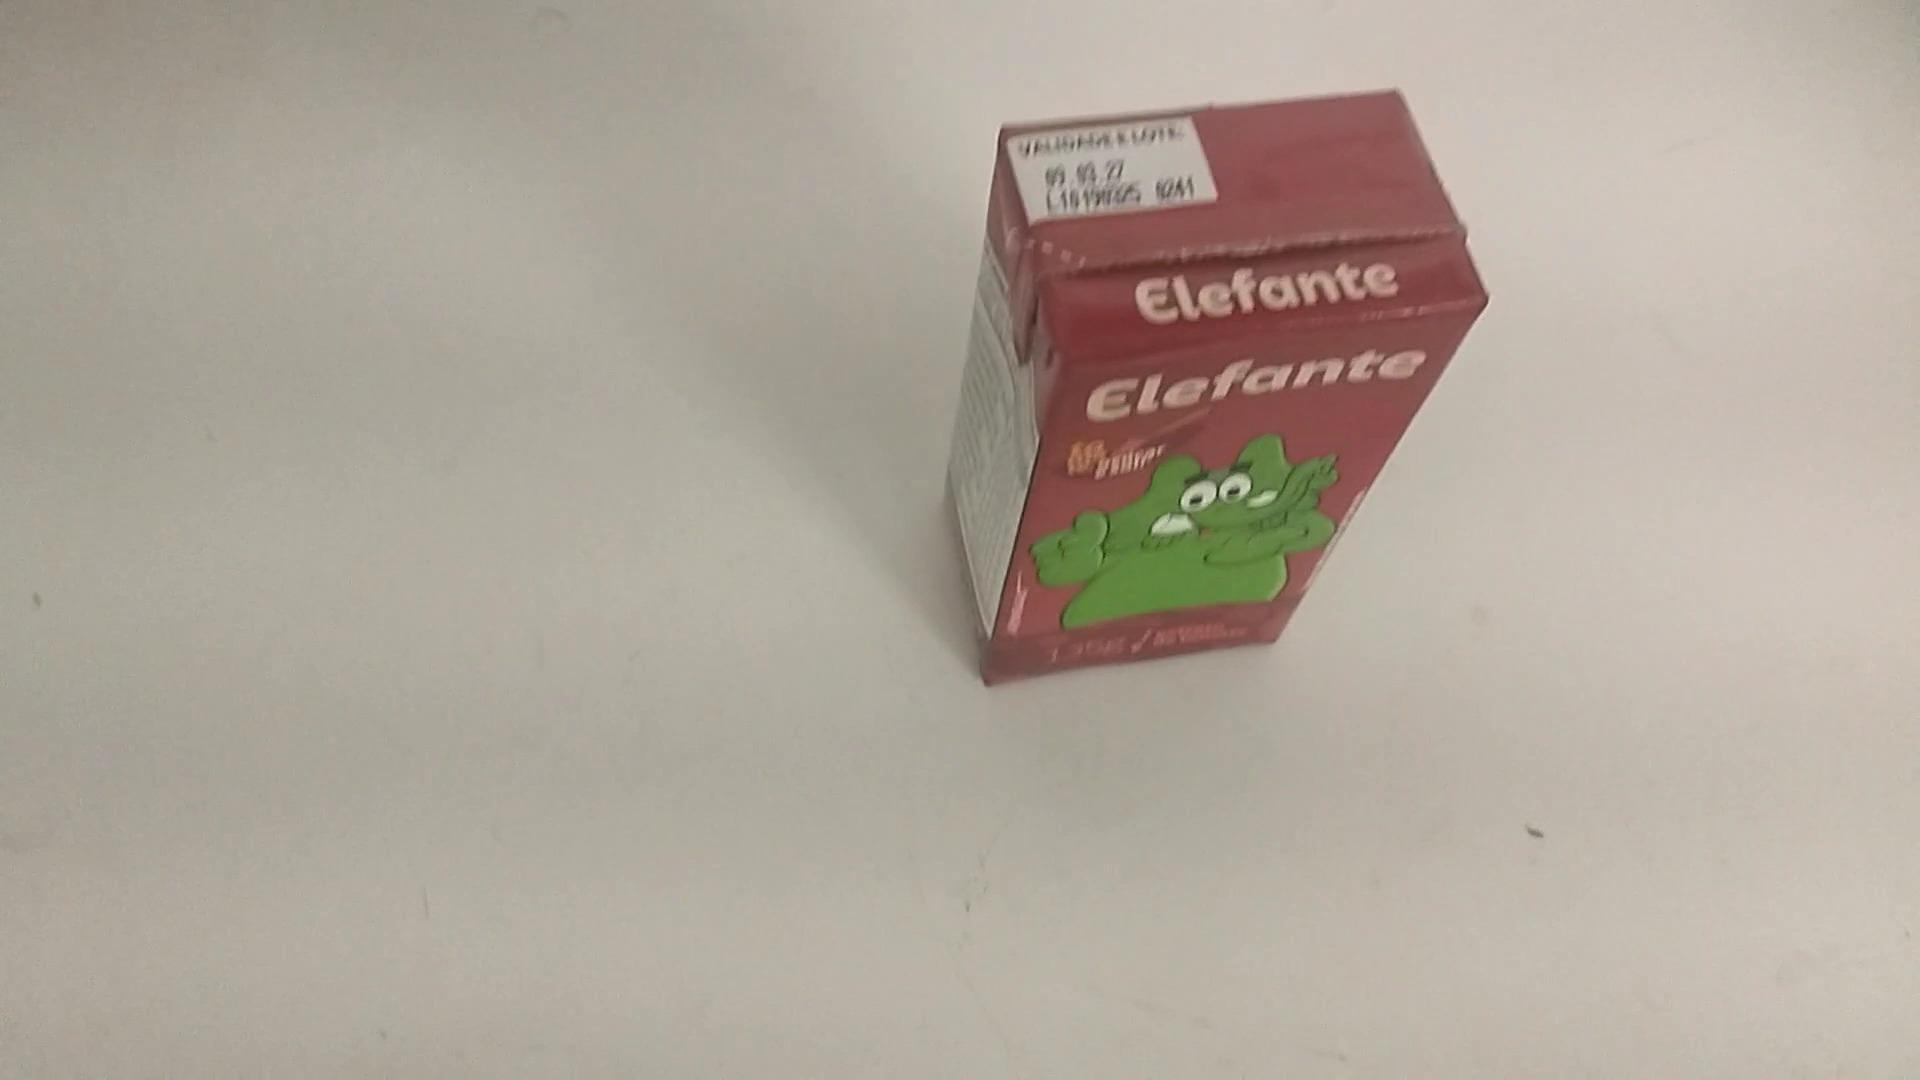tomate: (953, 90, 1487, 690)
